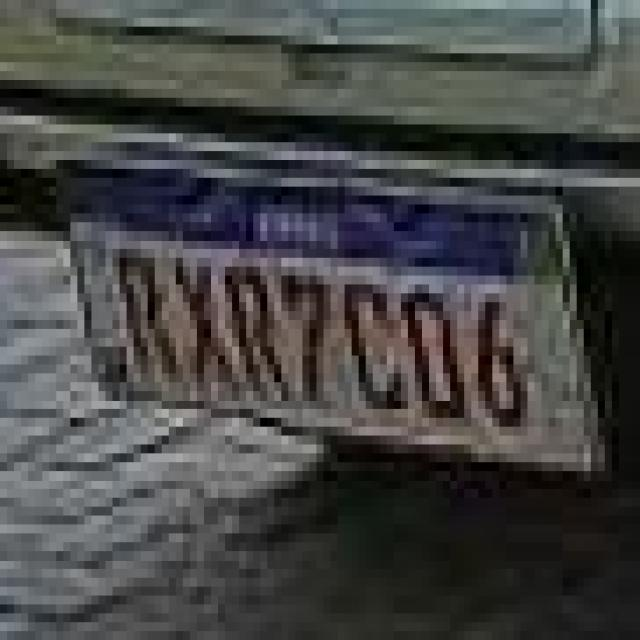0: (404, 276, 466, 426)
6: (472, 283, 532, 439)
7: (280, 264, 340, 411)
C: (341, 270, 402, 416)
R: (116, 239, 176, 387), (226, 256, 286, 402)
X: (168, 250, 226, 394)
